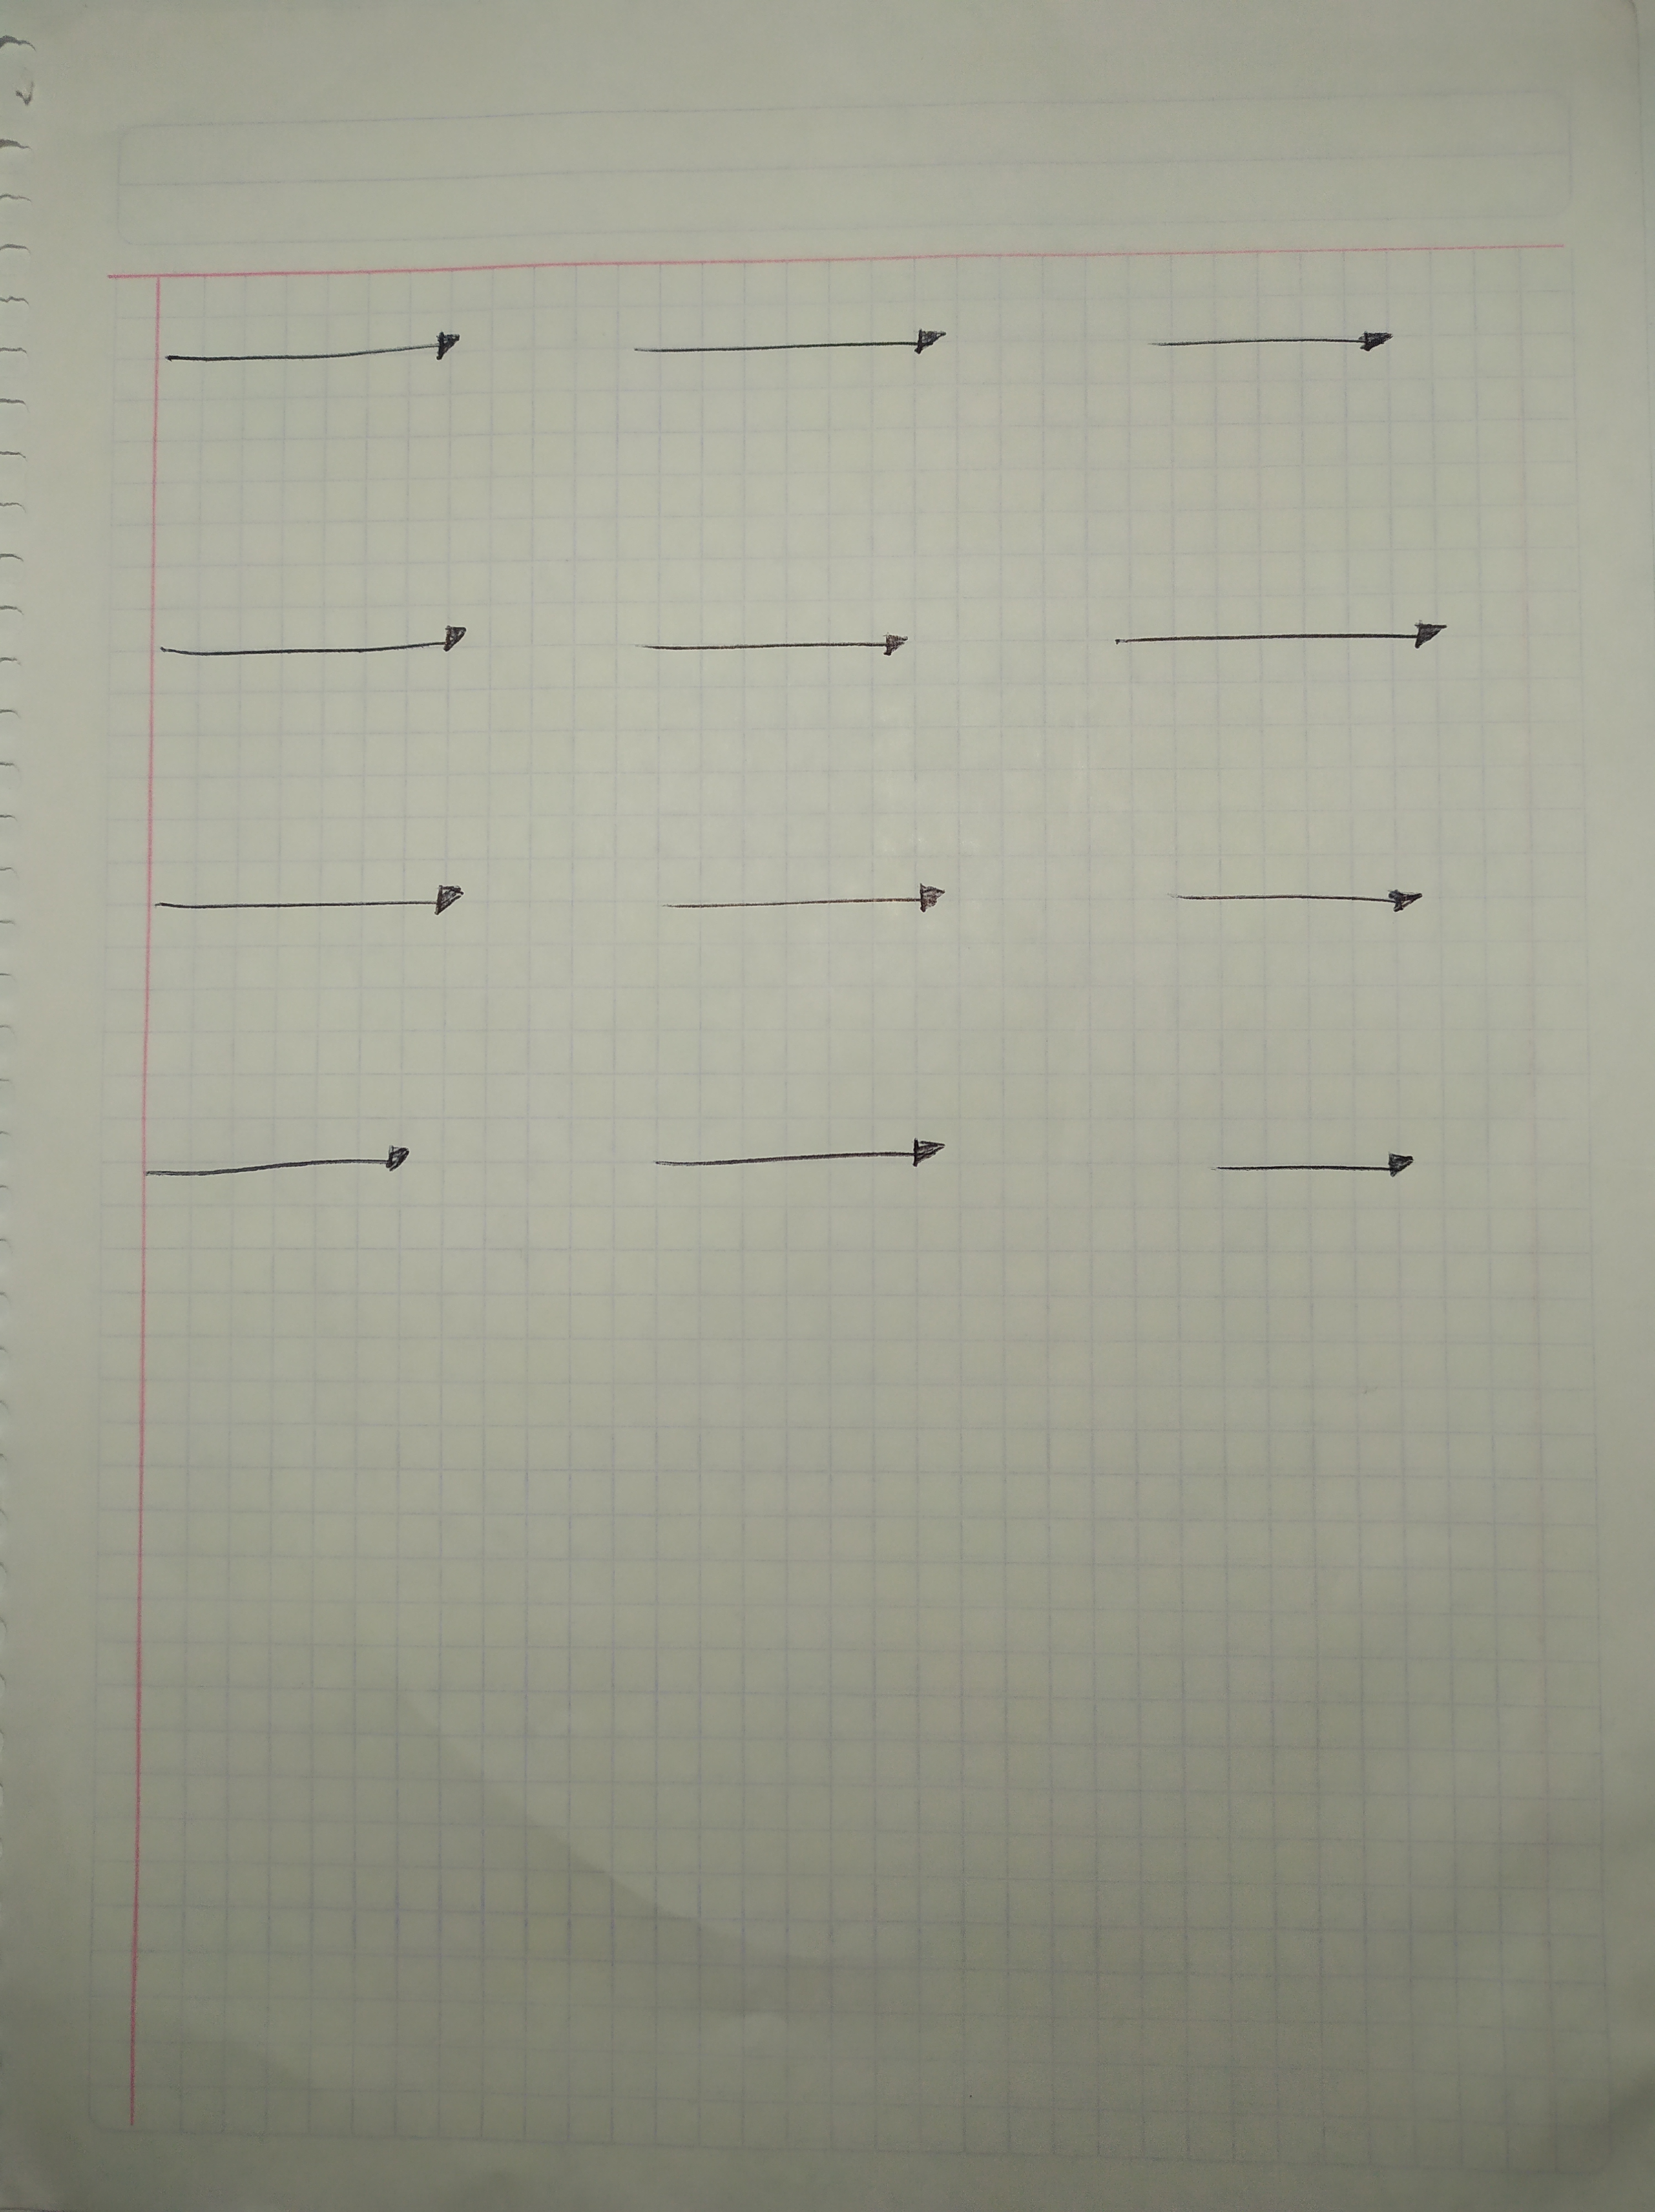arrow_line_right: (612, 1103, 979, 1209), (596, 605, 961, 705), (1074, 601, 1467, 693), (1113, 287, 1434, 398), (610, 297, 987, 389), (111, 593, 494, 678), (115, 869, 525, 945), (104, 1119, 457, 1208), (132, 304, 483, 389), (1139, 860, 1467, 945), (628, 871, 968, 935), (1184, 1117, 1441, 1192)
